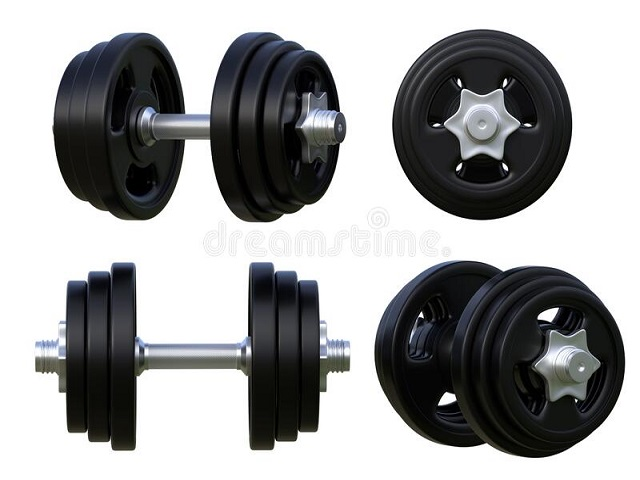weights: (392, 28, 573, 221), (410, 45, 560, 210), (376, 262, 501, 449), (490, 284, 626, 445), (84, 32, 185, 222), (211, 32, 286, 223), (264, 49, 341, 204), (238, 40, 302, 214), (55, 52, 90, 201), (111, 262, 137, 450), (250, 262, 275, 450), (275, 271, 299, 442), (87, 271, 110, 442), (297, 280, 319, 432), (66, 281, 87, 433)
